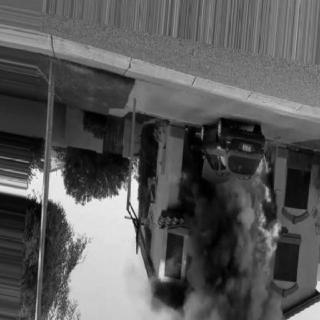Fire: (253, 156, 281, 272)
Smoke: (176, 180, 252, 320), (243, 277, 281, 319)
